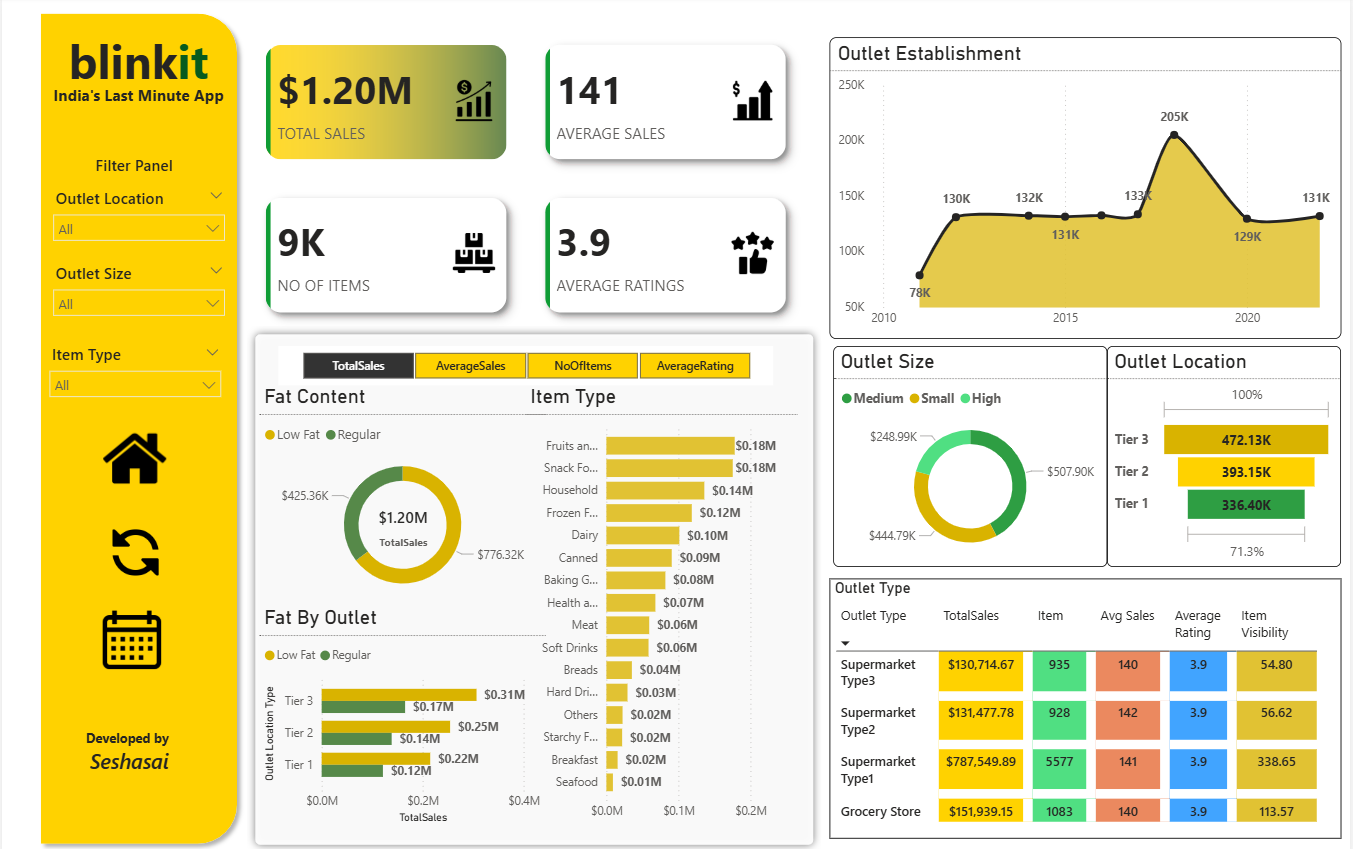

What the dashboard file says about the page in this screenshot:
{"tool":"powerbi","page":{"name":"Page 1","canvas":[1400,900],"ordinal":0},"visuals":[{"type":"shape","box":[31.5,9,222.1,881],"z":0},{"type":"textbox","box":[46.5,30,190.6,75],"z":1000},{"type":"textbox","box":[46.5,87.1,190.6,36],"z":2000},{"type":"cardVisual","fields":{"Data":["BlinkIT Grocery Data.TotalSales","BlinkIT Grocery Data.AverageSales","BlinkIT Grocery Data.NoOfItems","BlinkIT Grocery Data.AverageRatings"]},"box":[252.9,30,582.8,325.9],"z":3000},{"type":"textbox","box":[254,356,554,534],"z":4000},{"type":"shape","box":[254.2,342.9,597.1,547.6],"z":5000},{"type":"donutChart","title":"Fat Content","fields":{"Y":["BlinkIT Grocery Data.TotalSales"],"Category":["BlinkIT Grocery Data.Item Fat Content"]},"box":[267.8,403.6,297.8,229.9],"z":6000},{"type":"slicer","fields":{"Values":["Metrics.Metrics"]},"box":[287.4,363.1,514.6,40.5],"z":7000},{"type":"cardVisual","fields":{"Data":["BlinkIT Grocery Data.TotalSales"]},"box":[367,518.6,99.3,64],"z":8000},{"type":"clusteredBarChart","title":"Fat By Outlet","fields":{"Y":["BlinkIT Grocery Data.TotalSales"],"Category":["BlinkIT Grocery Data.Outlet Location Type"],"Series":["BlinkIT Grocery Data.Item Fat Content"]},"box":[267.8,633.5,297.8,229.9],"z":9000},{"type":"barChart","title":"Item Type","fields":{"Y":["BlinkIT Grocery Data.TotalSales"],"Category":["BlinkIT Grocery Data.Item Type"]},"box":[544.7,403.6,282.1,459.8],"z":10000},{"type":"lineChart","title":"Outlet Establishment","fields":{"Category":["BlinkIT Grocery Data.Outlet Establishment Year"],"Y":["Sum(BlinkIT Grocery Data.Sales)"]},"box":[859.5,43.1,531.6,313.5],"z":11000},{"type":"donutChart","title":"Outlet Size","fields":{"Y":["BlinkIT Grocery Data.TotalSales"],"Category":["BlinkIT Grocery Data.Outlet Size"]},"box":[863.4,363.1,284.8,229.9],"z":12000},{"type":"funnel","title":"Outlet Location","fields":{"Category":["BlinkIT Grocery Data.Outlet Location Type"],"Y":["Sum(BlinkIT Grocery Data.Sales)"]},"box":[1148.2,363.1,243,229.9],"z":13000},{"type":"tableEx","title":"Outlet Type","fields":{"Values":["BlinkIT Grocery Data.Outlet Type","BlinkIT Grocery Data.TotalSales","BlinkIT Grocery Data.NoOfItems","BlinkIT Grocery Data.AverageSales","BlinkIT Grocery Data.AverageRating","Sum(BlinkIT Grocery Data.Item Visibility)"]},"box":[859.5,604.8,531.6,270.4],"z":14000},{"type":"slicer","fields":{"Values":["BlinkIT Grocery Data.Outlet Location Type"]},"box":[43.1,193.3,198.5,71.8],"z":15000},{"type":"slicer","fields":{"Values":["BlinkIT Grocery Data.Outlet Size"]},"box":[43.1,271.7,198.5,71.8],"z":16000},{"type":"slicer","fields":{"Values":["BlinkIT Grocery Data.Item Type"]},"box":[39.2,356.6,198.5,71.8],"z":17000},{"type":"textbox","box":[77.1,159.4,121.5,34],"z":18000},{"type":"image","box":[99.3,442.8,78.4,75.8],"z":19000},{"type":"image","box":[105.8,549.9,66.6,57.5],"z":20000},{"type":"image","box":[98,633.5,74.5,70.5],"z":21000},{"type":"textbox","box":[66.6,757.6,131.9,58.8],"z":22000}]}

Visuals, with their boxes in screenshot pixels (x1, y1, x2, y2), scaled from the page's 1400x900 canvas onto the 1353x849 screenshot:
shape: {"left": 30, "top": 8, "right": 245, "bottom": 840}
textbox: {"left": 45, "top": 28, "right": 229, "bottom": 99}
textbox: {"left": 45, "top": 82, "right": 229, "bottom": 116}
cardVisual - BlinkIT Grocery Data.TotalSales x BlinkIT Grocery Data.AverageSales: {"left": 244, "top": 28, "right": 808, "bottom": 336}
textbox: {"left": 245, "top": 336, "right": 781, "bottom": 840}
shape: {"left": 246, "top": 323, "right": 823, "bottom": 840}
"Fat Content" donutChart: {"left": 259, "top": 381, "right": 547, "bottom": 598}
slicer - Metrics.Metrics: {"left": 278, "top": 343, "right": 775, "bottom": 381}
cardVisual - BlinkIT Grocery Data.TotalSales: {"left": 355, "top": 489, "right": 451, "bottom": 550}
"Fat By Outlet" clusteredBarChart: {"left": 259, "top": 598, "right": 547, "bottom": 814}
"Item Type" barChart: {"left": 526, "top": 381, "right": 799, "bottom": 814}
"Outlet Establishment" lineChart: {"left": 831, "top": 41, "right": 1344, "bottom": 336}
"Outlet Size" donutChart: {"left": 834, "top": 343, "right": 1110, "bottom": 559}
"Outlet Location" funnel: {"left": 1110, "top": 343, "right": 1344, "bottom": 559}
"Outlet Type" tableEx: {"left": 831, "top": 571, "right": 1344, "bottom": 826}
slicer - BlinkIT Grocery Data.Outlet Location Type: {"left": 42, "top": 182, "right": 233, "bottom": 250}
slicer - BlinkIT Grocery Data.Outlet Size: {"left": 42, "top": 256, "right": 233, "bottom": 324}
slicer - BlinkIT Grocery Data.Item Type: {"left": 38, "top": 336, "right": 230, "bottom": 404}
textbox: {"left": 75, "top": 150, "right": 192, "bottom": 182}
image: {"left": 96, "top": 418, "right": 172, "bottom": 489}
image: {"left": 102, "top": 519, "right": 167, "bottom": 573}
image: {"left": 95, "top": 598, "right": 167, "bottom": 664}
textbox: {"left": 64, "top": 715, "right": 192, "bottom": 770}
